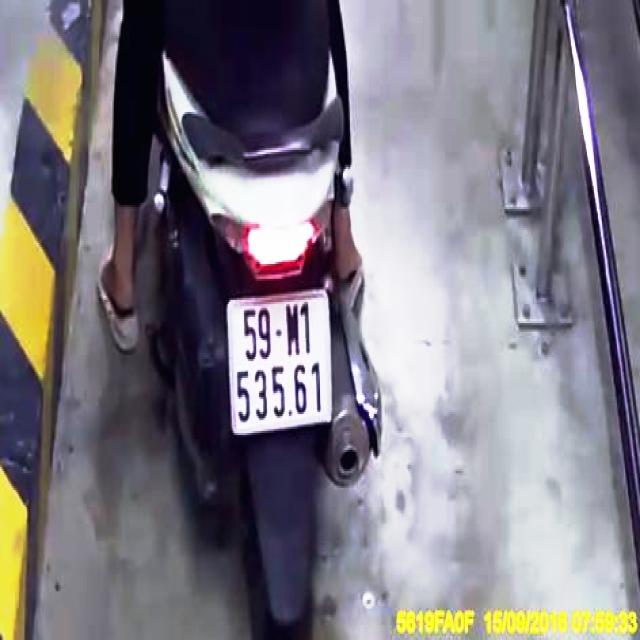license_plate: (227, 290, 334, 431)
